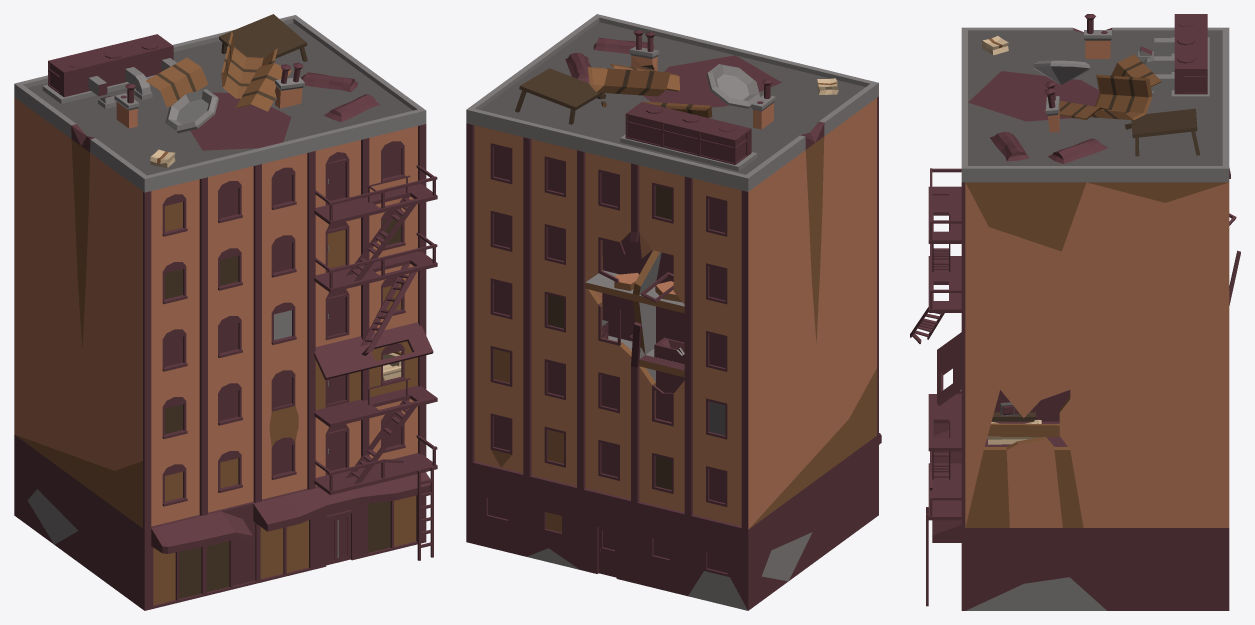
Rendered from building-block-5floor-front-apocalypse.fbx.
The picture shows the model from 3 angles, left to right: view 1: azimuth 30°, elevation 25°; view 2: azimuth 150°, elevation 25°; view 3: azimuth 270°, elevation 25°; orthographic projection. The views are drawn at different scales.
Parts seen in each view (by area): view 1: building-block-5floor-base-front-apocalypse, building-block-5floor-props-front-apocalypse; view 2: building-block-5floor-base-front-apocalypse, building-block-5floor-props-front-apocalypse; view 3: building-block-5floor-base-front-apocalypse, building-block-5floor-props-front-apocalypse.
Boxes of the visible parts, <box> form: building-block-5floor-base-front-apocalypse: <box>14,15,437,610</box>; building-block-5floor-props-front-apocalypse: <box>146,14,401,380</box>; building-block-5floor-base-front-apocalypse: <box>466,14,881,610</box>; building-block-5floor-props-front-apocalypse: <box>515,37,838,364</box>; building-block-5floor-base-front-apocalypse: <box>910,14,1240,610</box>; building-block-5floor-props-front-apocalypse: <box>981,36,1199,444</box>.
Bounding box in the file's own units: 13.1 × 20.88 × 13.01.
